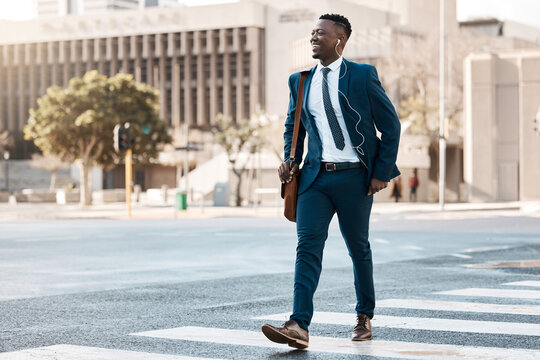Crosswalk: (393, 277, 540, 360)
Person: (268, 10, 393, 352)
Tree: (24, 69, 172, 215)
